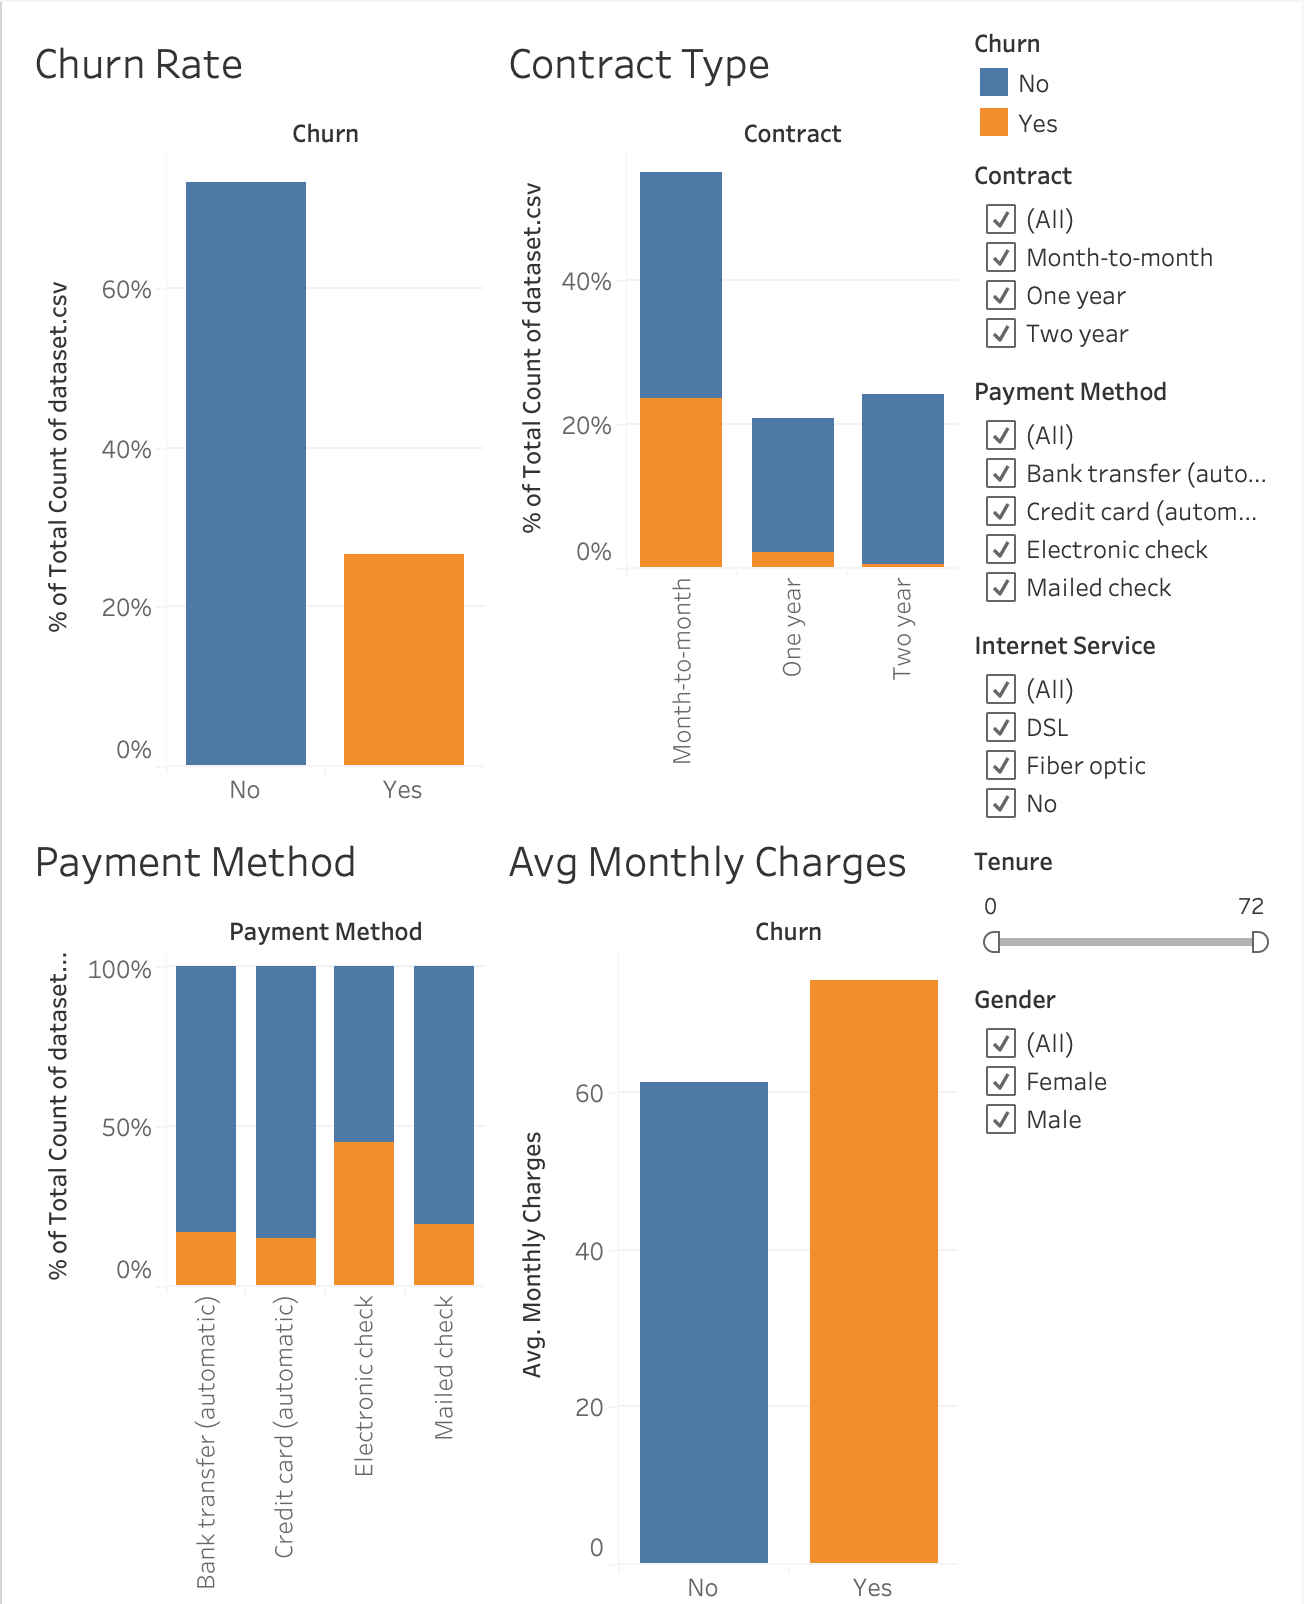

The page's visual inventory and layout, read from the dashboard file:
{"tool":"tableau","page":{"name":"Customer Churn Analysis Dashboard","canvas":[650,860],"ordinal":0},"visuals":[{"type":"worksheet","title":"Churn Rate","mark":"Automatic","rows":["dataset.csv_6F97928C6D4F47E0A9AD44C88244E9A2"],"cols":["Churn"],"box":[8,8.5,237,421.5]},{"type":"worksheet","title":"Contract Type","mark":"Automatic","rows":["dataset.csv_6F97928C6D4F47E0A9AD44C88244E9A2"],"cols":["Contract"],"box":[245,8.5,237,421.5]},{"type":"legend","title":"Contract Type","param":"[federated.1uttr1e00kgeqa11ro1ii1m9k1ip].[none:Churn:nk]","box":[482,8.5,160,69.7]},{"type":"filter","title":"Contract Type","param":"[federated.1uttr1e00kgeqa11ro1ii1m9k1ip].[none:Contract:nk]","box":[482,78.2,160,114.1]},{"type":"filter","title":"Contract Type","param":"[federated.1uttr1e00kgeqa11ro1ii1m9k1ip].[none:PaymentMethod:nk]","box":[482,192.3,160,134.2]},{"type":"filter","title":"Contract Type","param":"[federated.1uttr1e00kgeqa11ro1ii1m9k1ip].[none:InternetService:nk]","box":[482,326.5,160,114.1]},{"type":"worksheet","title":"Payment Method","mark":"Automatic","cols":["PaymentMethod"],"box":[8,430,237,421.5]},{"type":"worksheet","title":"Avg Monthly Charges","mark":"Automatic","rows":["MonthlyCharges"],"cols":["Churn"],"box":[245,430,237,421.5]},{"type":"filter","title":"Contract Type","param":"[federated.1uttr1e00kgeqa11ro1ii1m9k1ip].[none:tenure:qk]","box":[482,440.6,160,72.9]},{"type":"filter","title":"Avg Monthly Charges","param":"[federated.1uttr1e00kgeqa11ro1ii1m9k1ip].[none:gender:nk]","box":[482,513.5,160,94]}]}

Visuals, with their boxes on the page's 650x860 design canvas (x1, y1, x2, y2). These are canvas units, not pixel positions in the 1304x1604 screenshot, which may show the page scaled, cropped or inside an application window:
"Churn Rate" worksheet: [8,8,245,430]
"Contract Type" worksheet: [245,8,482,430]
"Contract Type" legend: [482,8,642,78]
"Contract Type" filter: [482,78,642,192]
"Contract Type" filter: [482,192,642,326]
"Contract Type" filter: [482,326,642,441]
"Payment Method" worksheet: [8,430,245,852]
"Avg Monthly Charges" worksheet: [245,430,482,852]
"Contract Type" filter: [482,441,642,514]
"Avg Monthly Charges" filter: [482,514,642,608]
